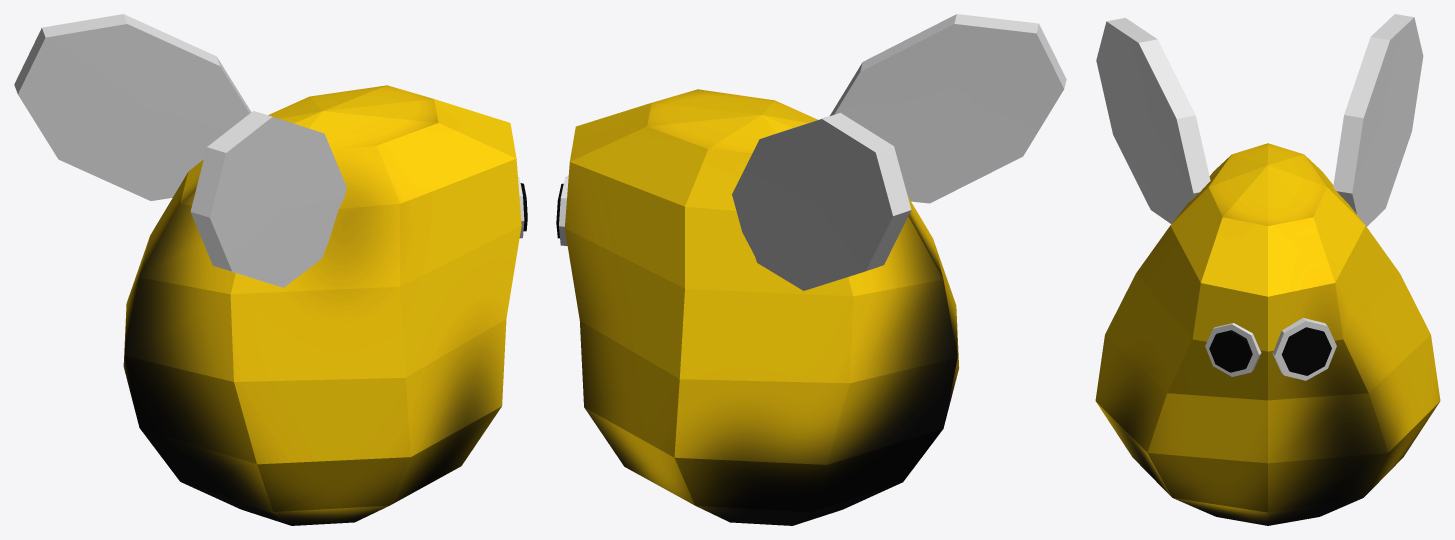
Rendered from Bee.fbx.
3 views of the same model, side by side, from view 1: azimuth 30°, elevation 25°; view 2: azimuth 150°, elevation 25°; view 3: azimuth 270°, elevation 25° (orthographic). The views are drawn at different scales.
Visible parts, largest first — view 1: Bee, Wing1, Wing2; view 2: Bee, Wing2, Wing1; view 3: Bee, Wing2, Wing1, RightPupil, LeftPupil, RightEye, LeftEye.
Part boxes in pixels (x1=…): Bee: x1=123, y1=85, x2=521, y2=525; Wing1: x1=14, y1=14, x2=251, y2=200; Wing2: x1=190, y1=111, x2=346, y2=287; Bee: x1=564, y1=89, x2=959, y2=525; Wing2: x1=830, y1=14, x2=1066, y2=203; Wing1: x1=732, y1=113, x2=911, y2=290; Bee: x1=1095, y1=143, x2=1440, y2=525; Wing2: x1=1096, y1=18, x2=1210, y2=223; Wing1: x1=1333, y1=14, x2=1423, y2=226; RightPupil: x1=1281, y1=327, x2=1331, y2=375; LeftPupil: x1=1209, y1=330, x2=1252, y2=372; RightEye: x1=1272, y1=318, x2=1336, y2=380; LeftEye: x1=1205, y1=323, x2=1261, y2=376.
Size of the model in its own units: 2.22 by 2.4 by 1.8.
3 materials, 1 textured.
